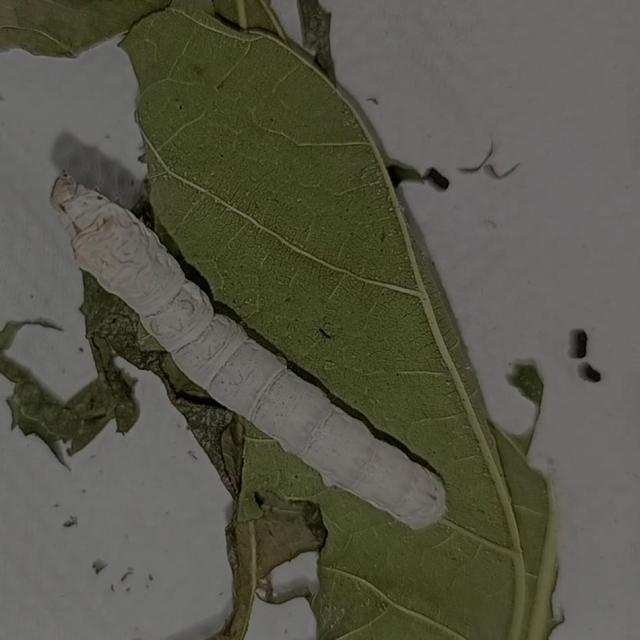Healthy: (44, 166, 453, 536)
